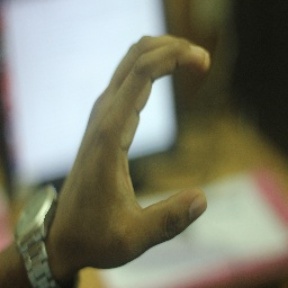C: (68, 29, 219, 237)
